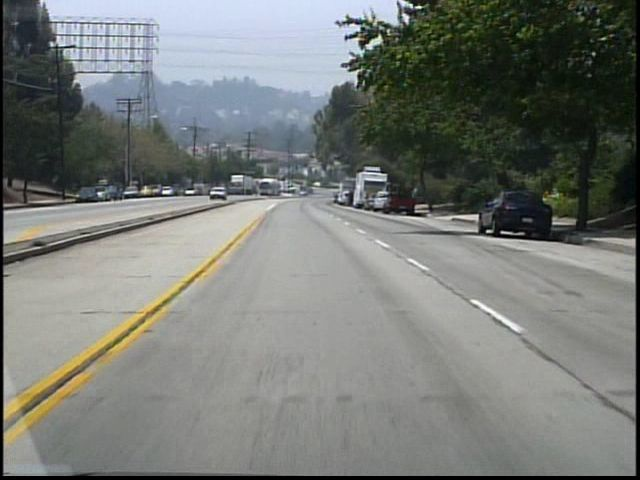person: (407, 183, 419, 209)
